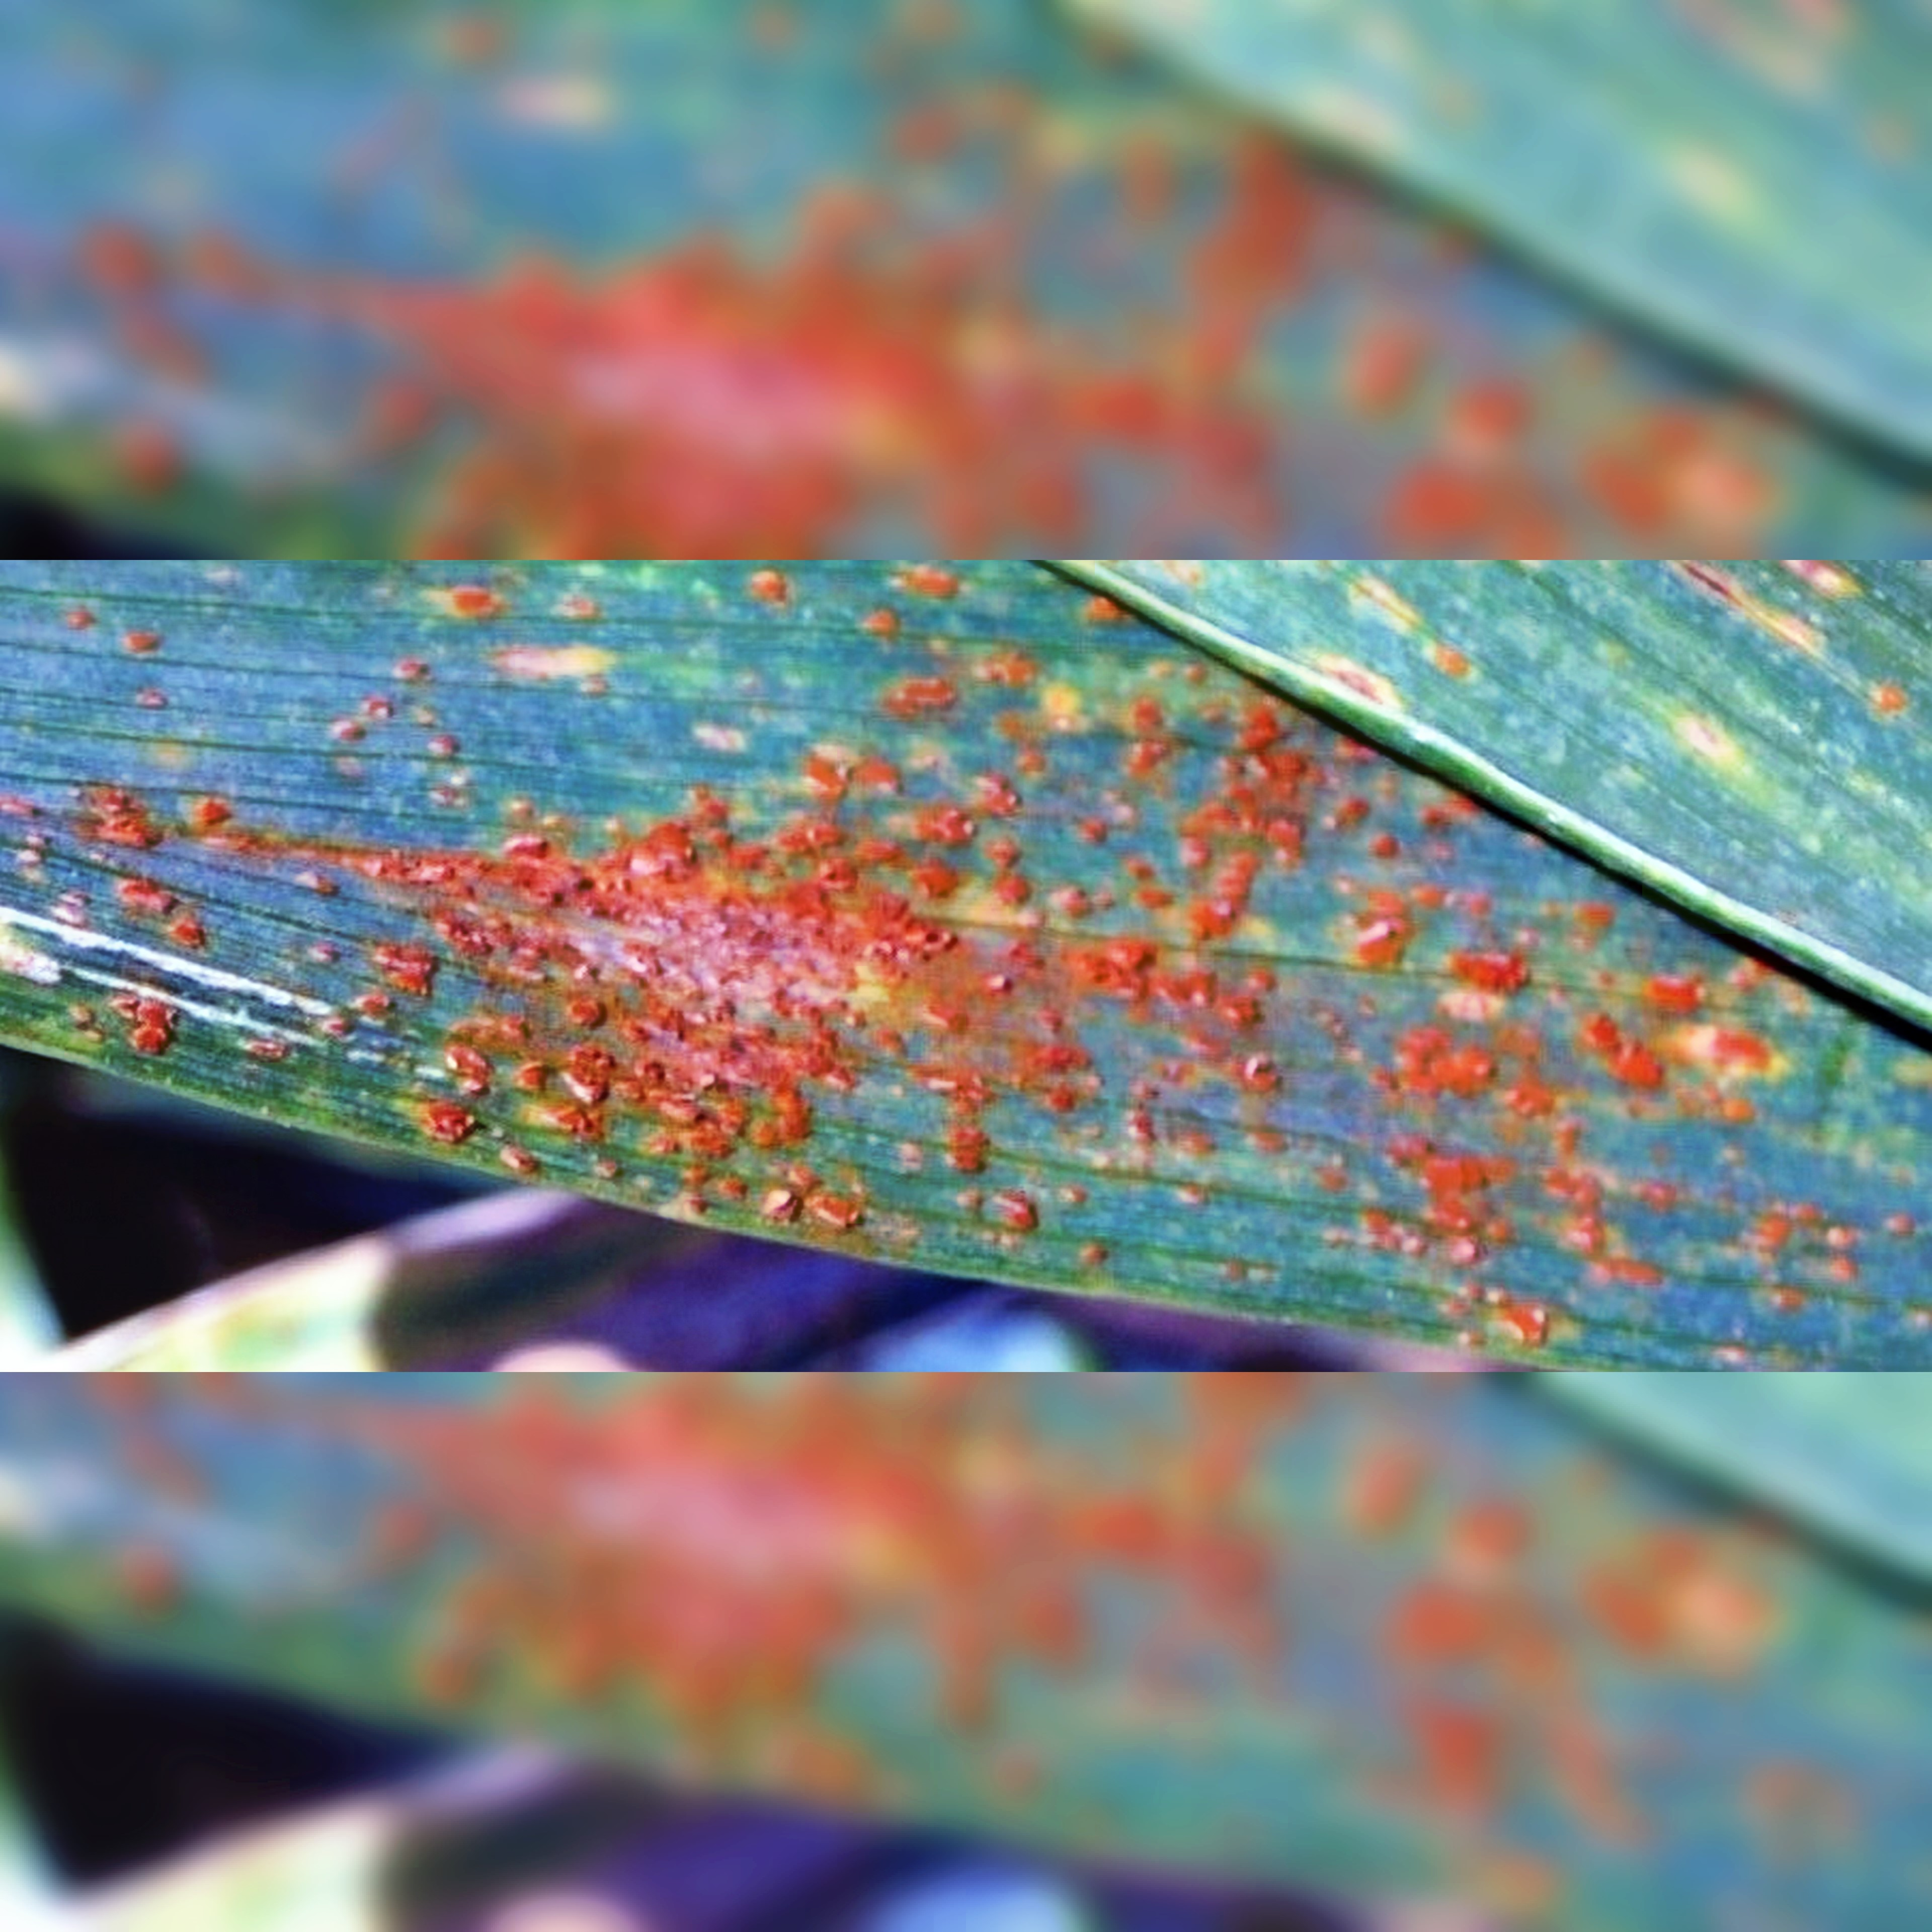Leaf Rust: (35, 642, 1897, 1364)
